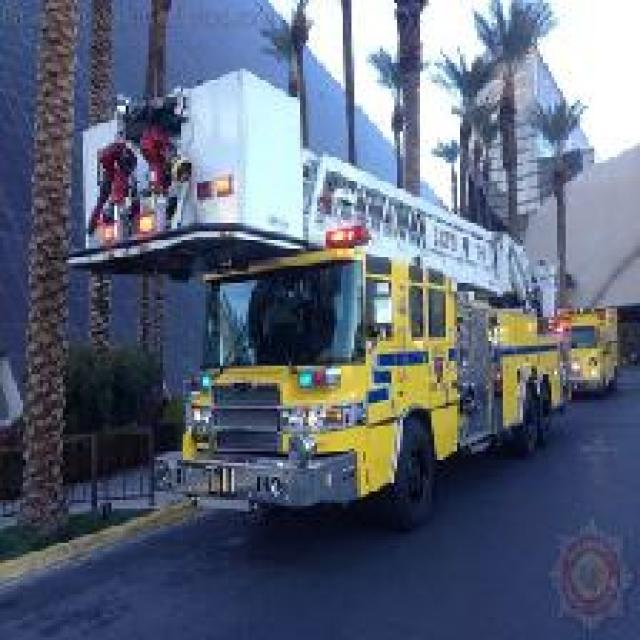emergency: (165, 149, 578, 526)
